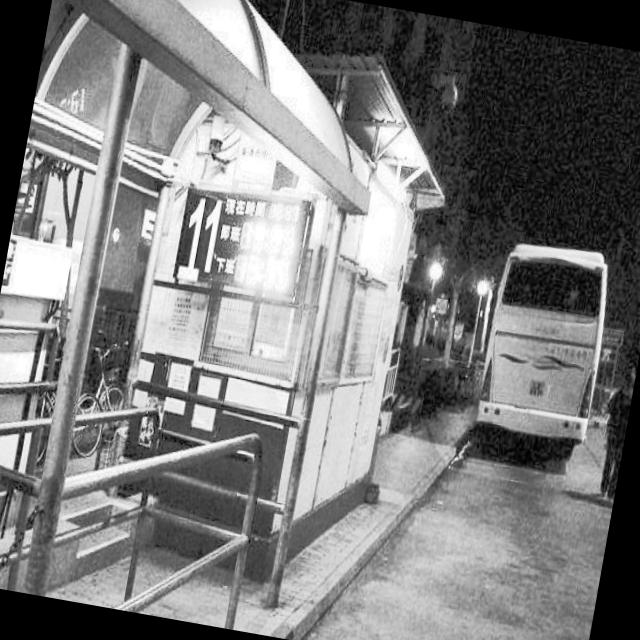Bicycle: (26, 311, 147, 474)
Bus: (458, 214, 640, 500)
Person: (577, 342, 640, 554), (601, 382, 634, 508)
